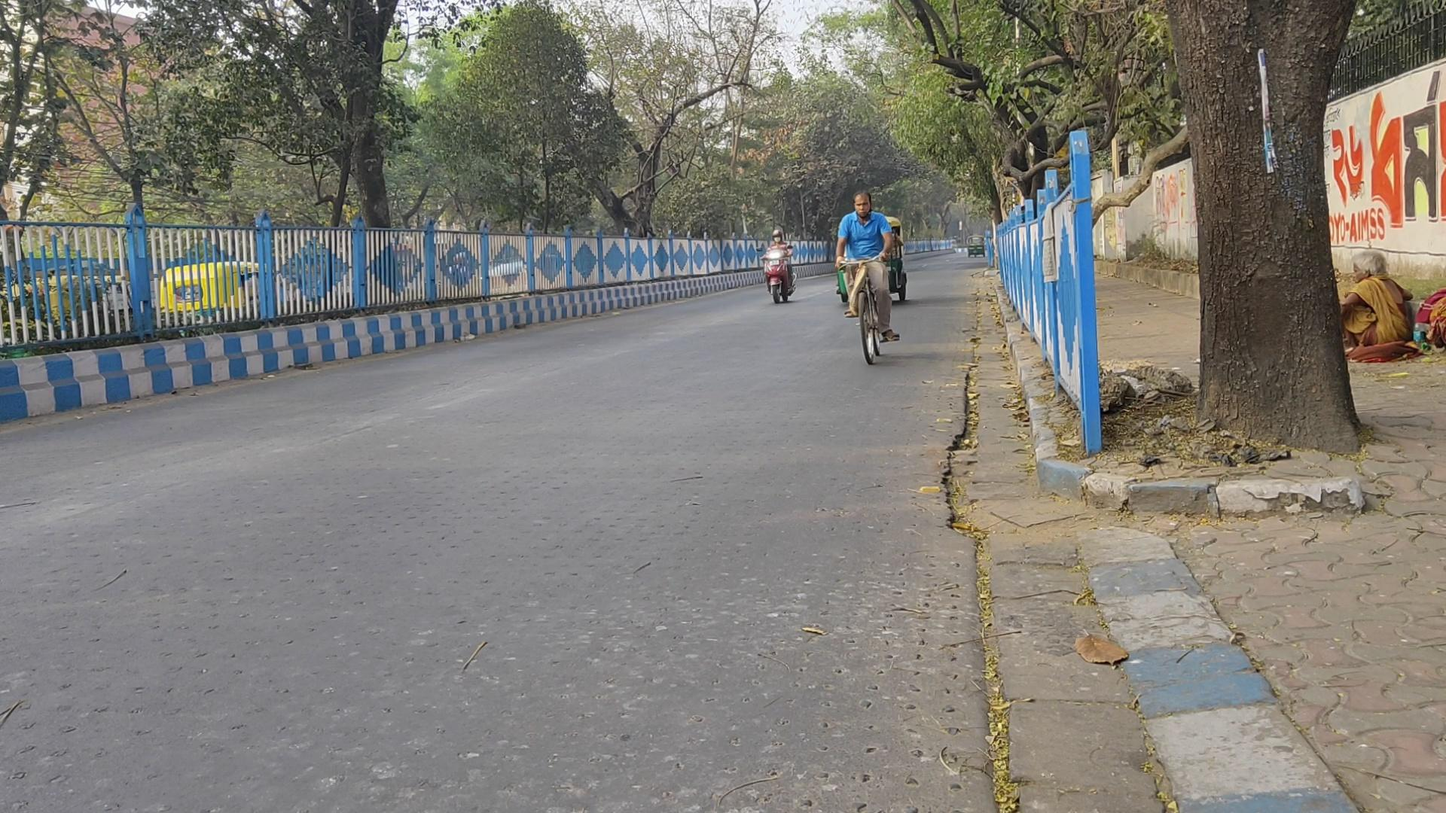Auto: (836, 214, 909, 308), (964, 233, 987, 258)
bike: (837, 193, 901, 366), (755, 229, 797, 303)
